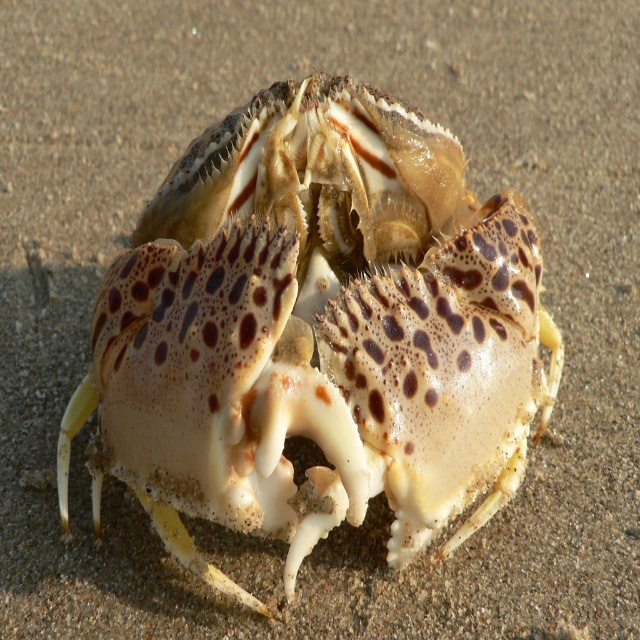Crab: (57, 65, 565, 618)
